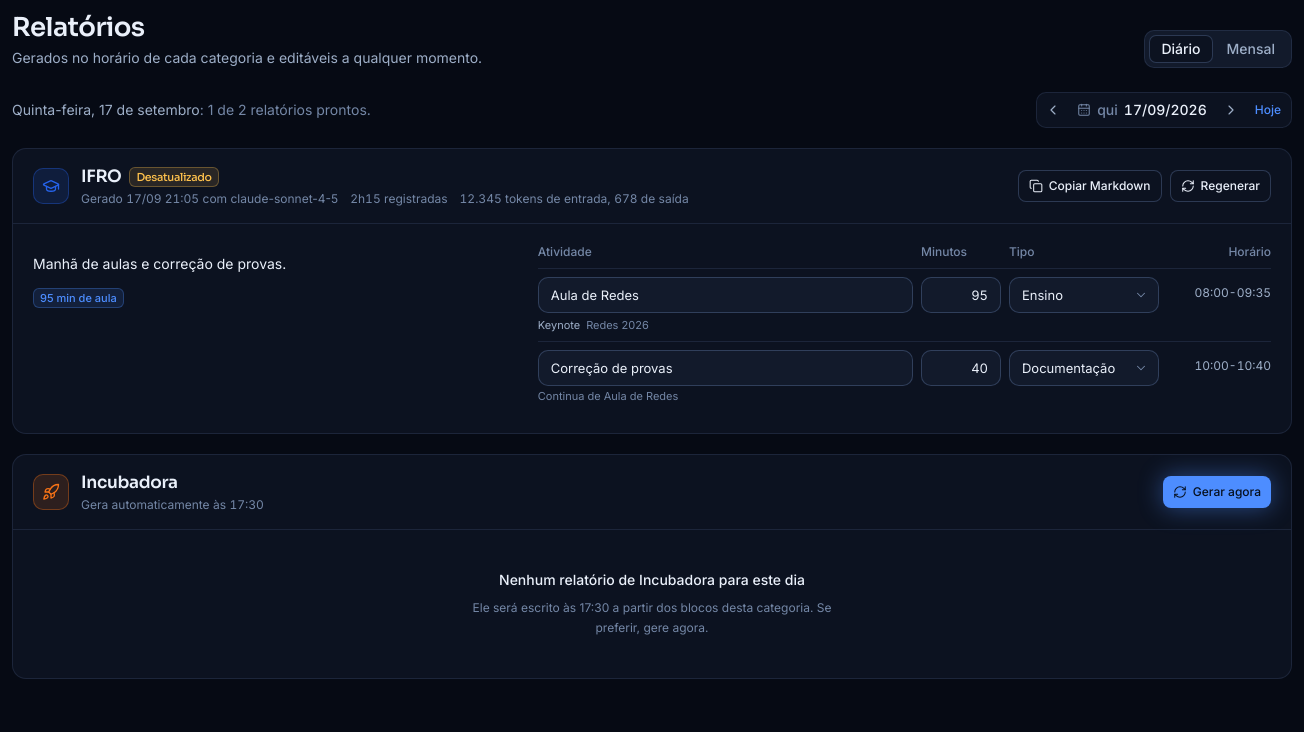
Reports page › switches to the monthly tab and shows its empty state
expect the text ": 1 de 2 relatórios prontos." is shown: met, box 200,101 -> 371,118
Click the tab "Mensal".
click(1251, 49)  # box 1214,35 -> 1287,63
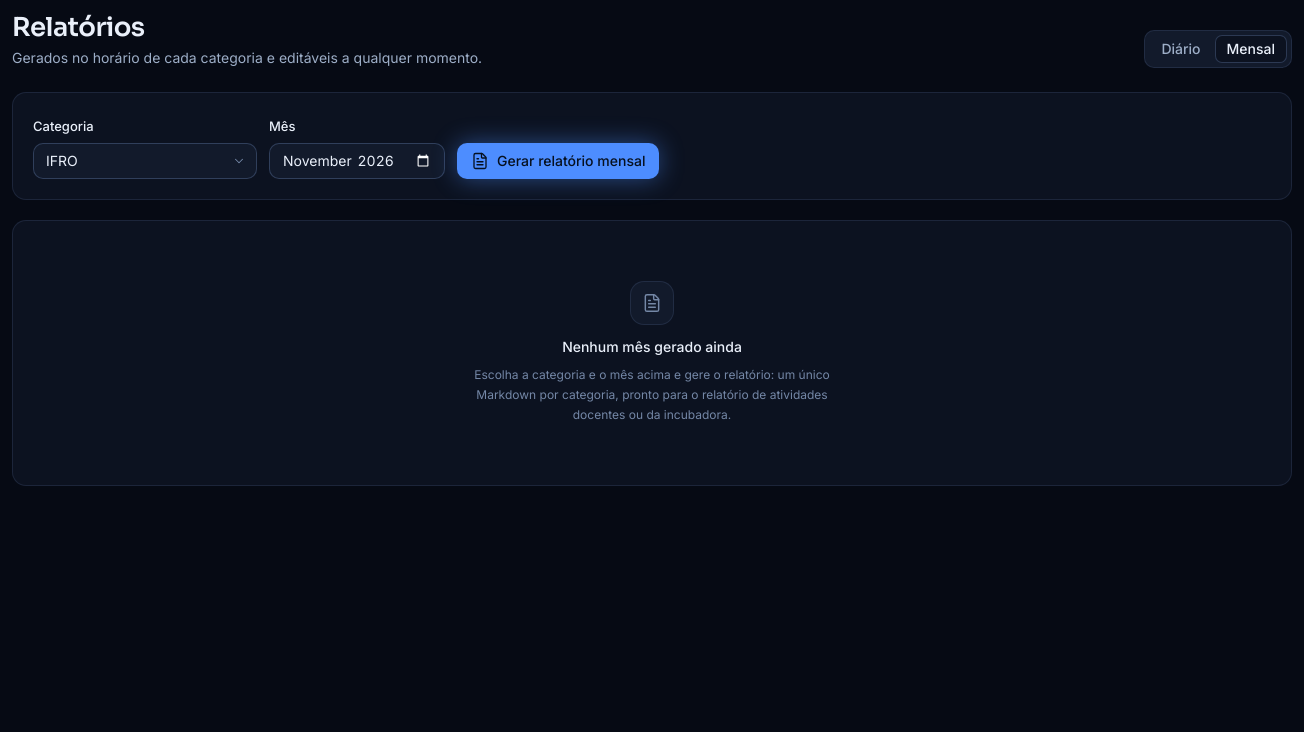
expect the text "Nenhum mês gerado ainda" is shown: met, box 562,337 -> 742,357
expect the button "Gerar relatório mensal" is shown: met, box 457,143 -> 659,179
